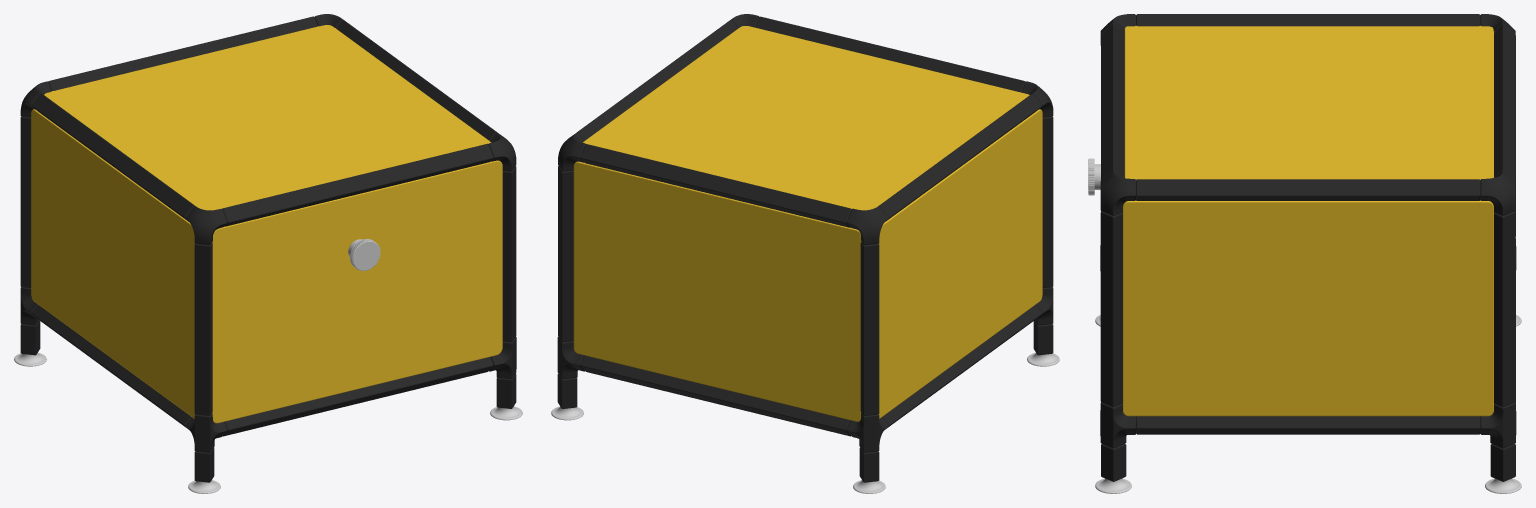
The picture shows the model from 3 angles, left to right: view 1: azimuth 30°, elevation 25°; view 2: azimuth 150°, elevation 25°; view 3: azimuth 270°, elevation 25°; orthographic projection. The views are drawn at different scales.
Parts seen in each view (by area): view 1: 374x374x229; view 2: 374x374x229; view 3: 374x374x229.
Part boxes in pixels (x1,y1,x2,y2): 374x374x229: [14, 14, 522, 493]; 374x374x229: [551, 14, 1059, 493]; 374x374x229: [1088, 14, 1521, 493].
Bounding box in the file's own units: 0.4639 × 0.3683 × 0.4707.
